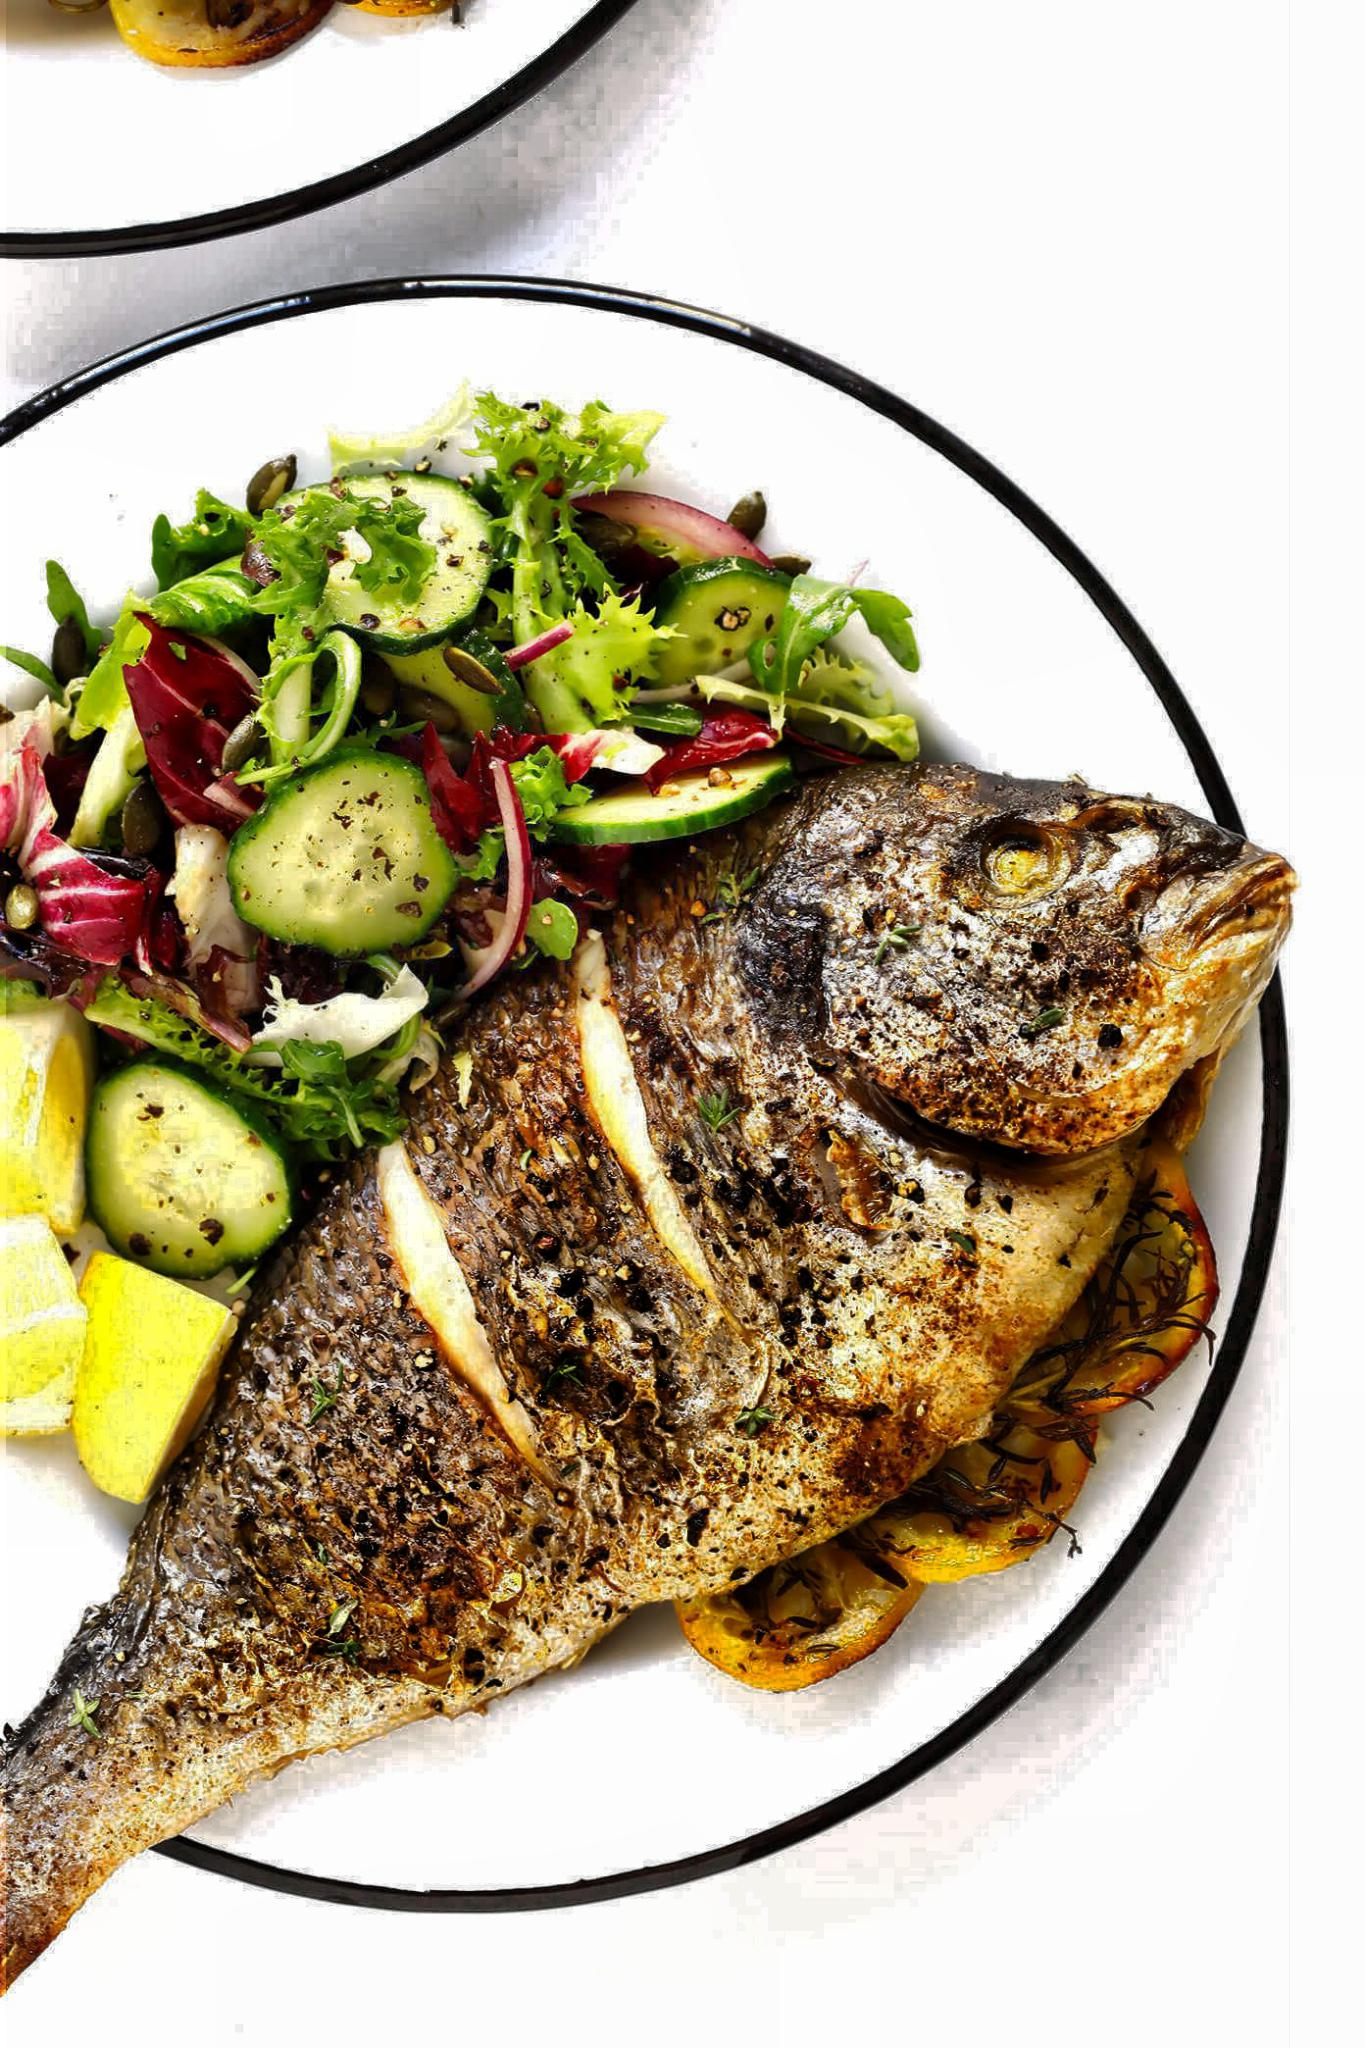fish: (2, 697, 1309, 2021)
